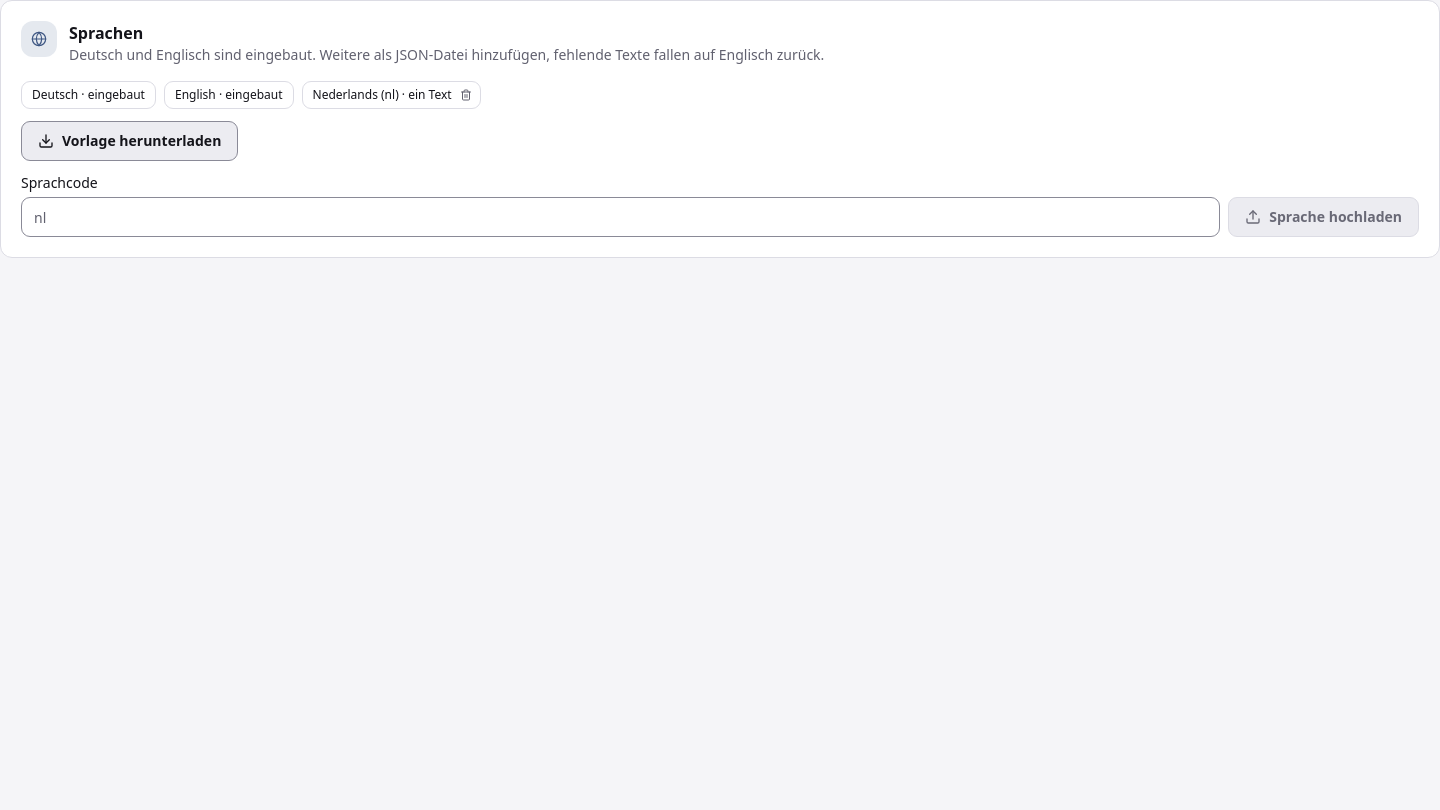
Test: the card "Sprachen" › asks before removing a file of the operator: cancelling keeps it, confirming removes it and tells the app
Click the button named "Nederlands entfernen" at (466, 95), box top-left (456, 85), bottom-right (476, 105)
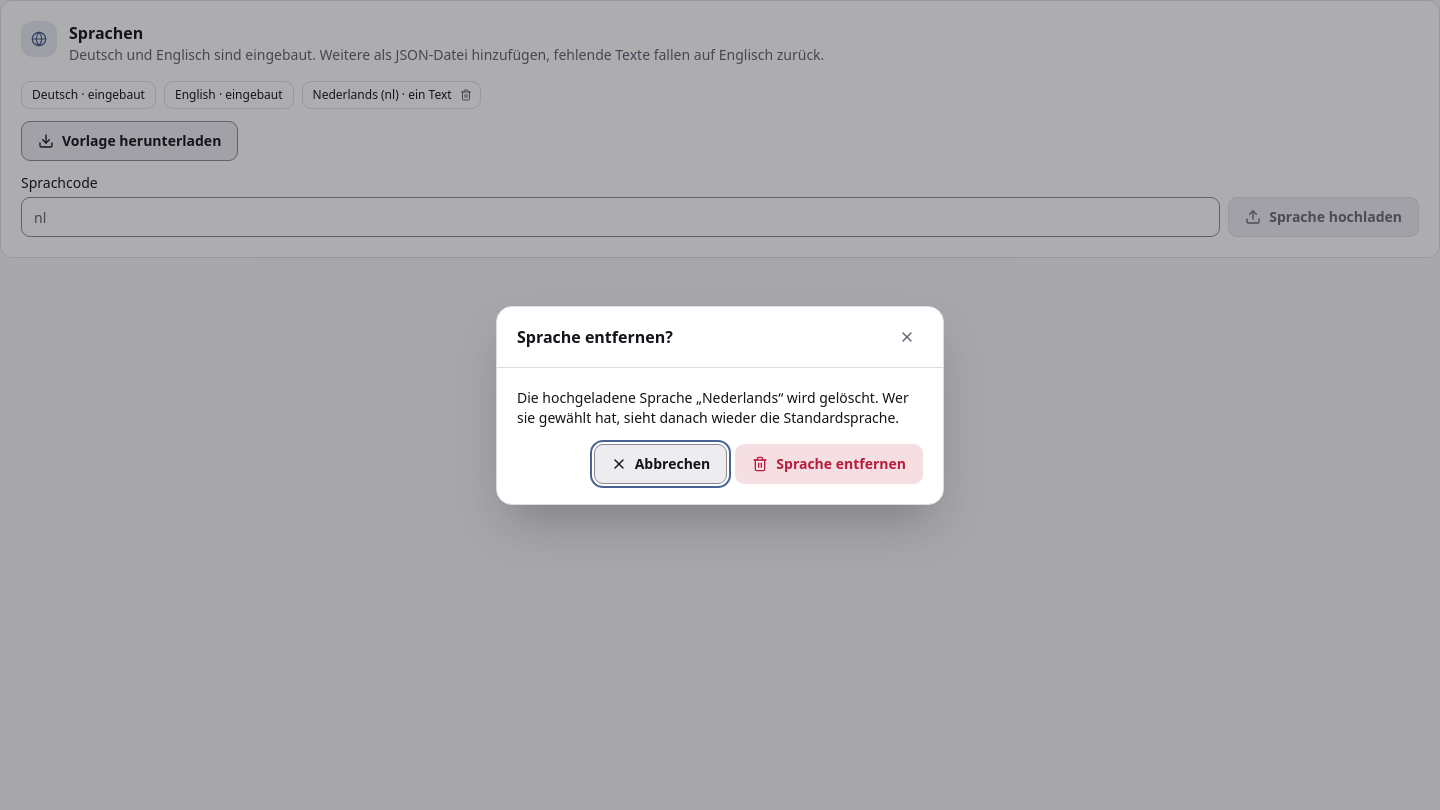
Expected: the dialog with test id "language-remove-dialog" shows "Sprache entfernen?", top-left (517, 326), bottom-right (673, 348)
Expected: the dialog with test id "language-remove-dialog" shows "„Nederlands“", top-left (517, 388), bottom-right (909, 426)
Click the button "Abbrechen" at (660, 464), box top-left (594, 444), bottom-right (727, 484)
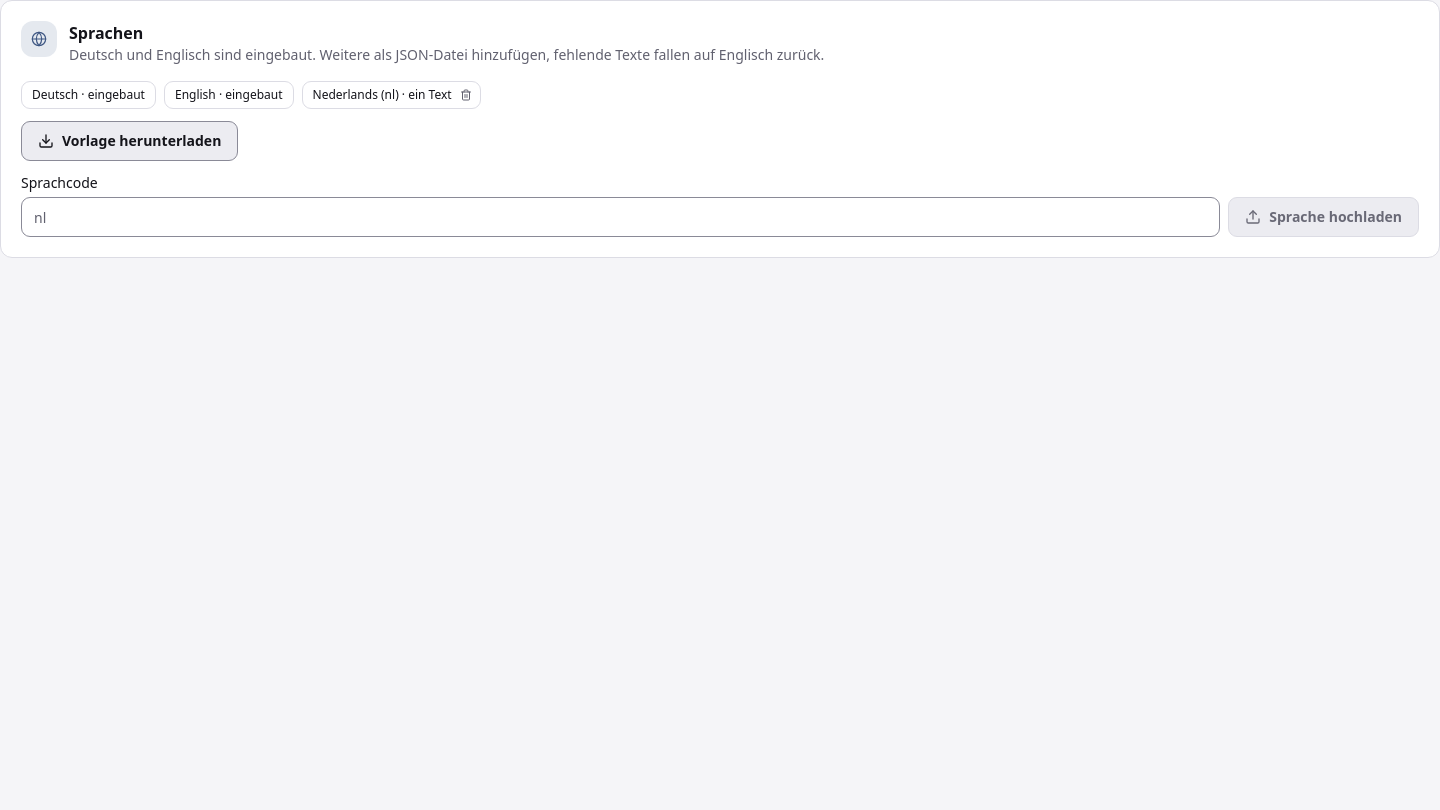
Expected: the element with test id "language-nl" is shown, top-left (302, 81), bottom-right (481, 109)
Expected: the dialog with test id "language-remove-dialog" is gone
Click the button named "Nederlands entfernen" at (466, 95), box top-left (456, 85), bottom-right (476, 105)
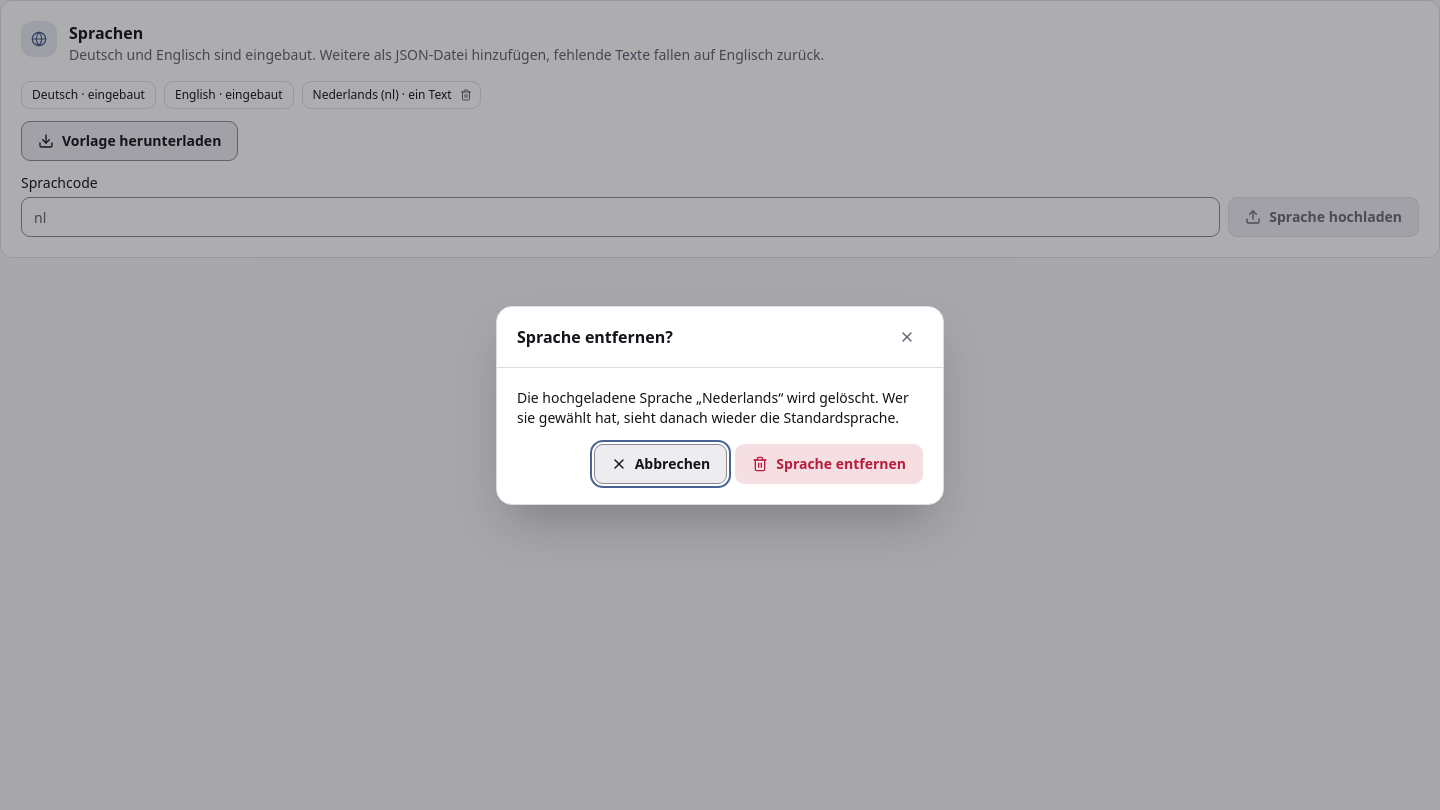
Click the submit button at (829, 464), box top-left (735, 444), bottom-right (923, 484)
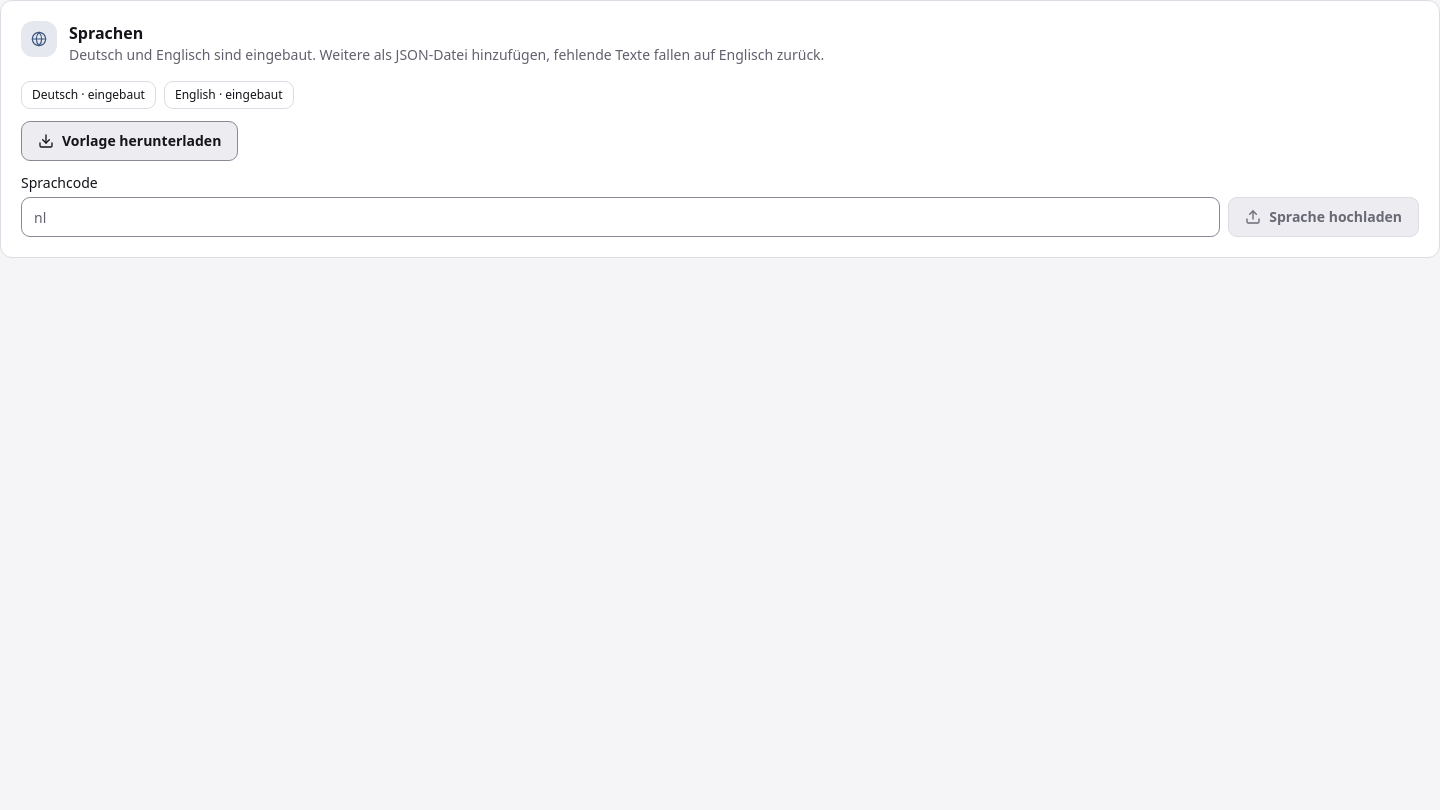
Expected: the element with test id "language-nl" is gone
Expected: the dialog with test id "language-remove-dialog" is gone
